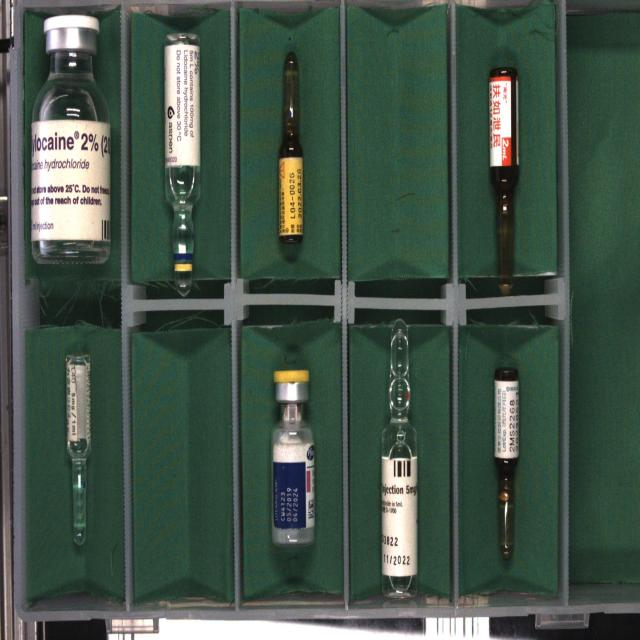Vials: (31, 14, 110, 263), (271, 370, 315, 545)
